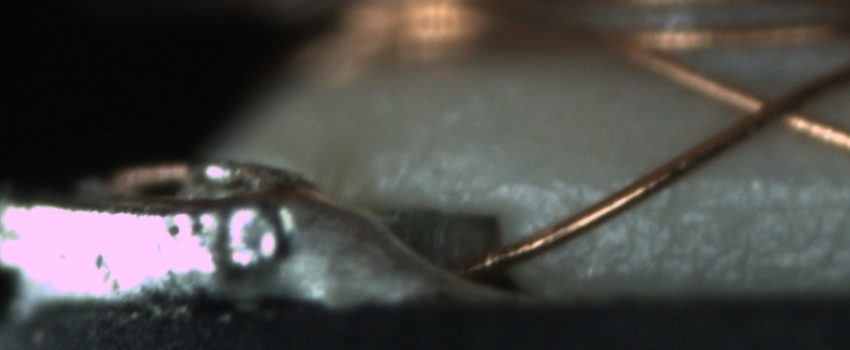CL: (705, 77, 836, 143)
DL: (517, 165, 850, 228)
TE: (115, 158, 206, 192)
